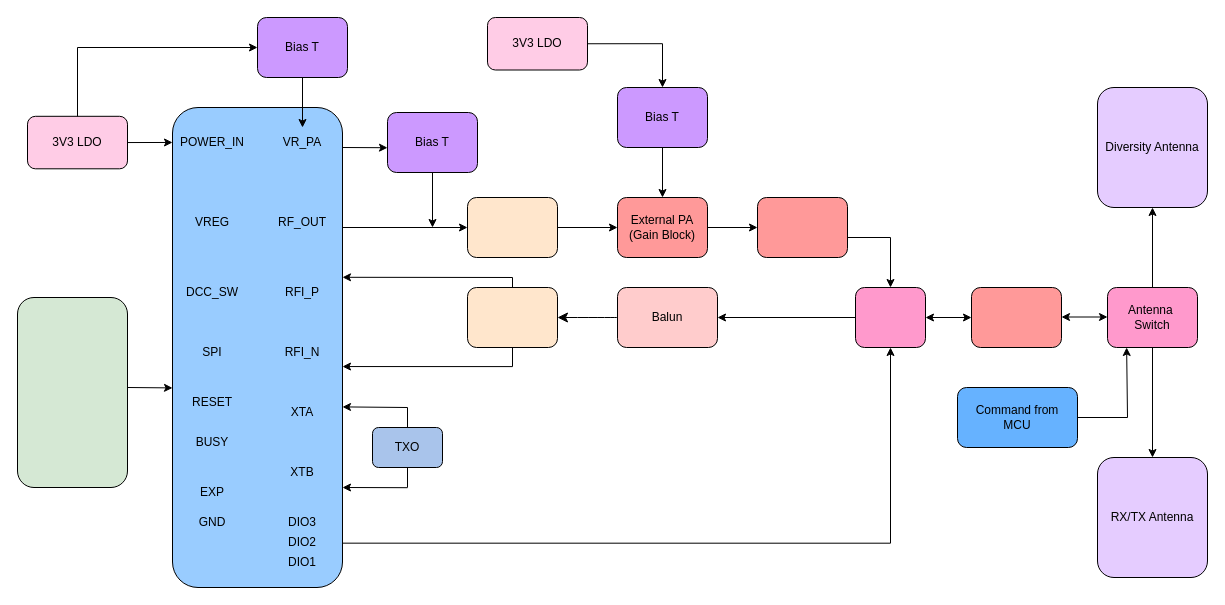
Some shapes in this 1225 by 605 pixel diagram are drawn without their labels. The shapes that lost their labels are listed below. From the top down, each one's centre as x and y in pixels, then its label:
point 512,227: PA Match
point 802,227: Gain Block Filter
point 512,317: LNA Match
point 890,317: RX/TX Switch
point 1016,317: RX/TX Filter
point 72,392: MCU
